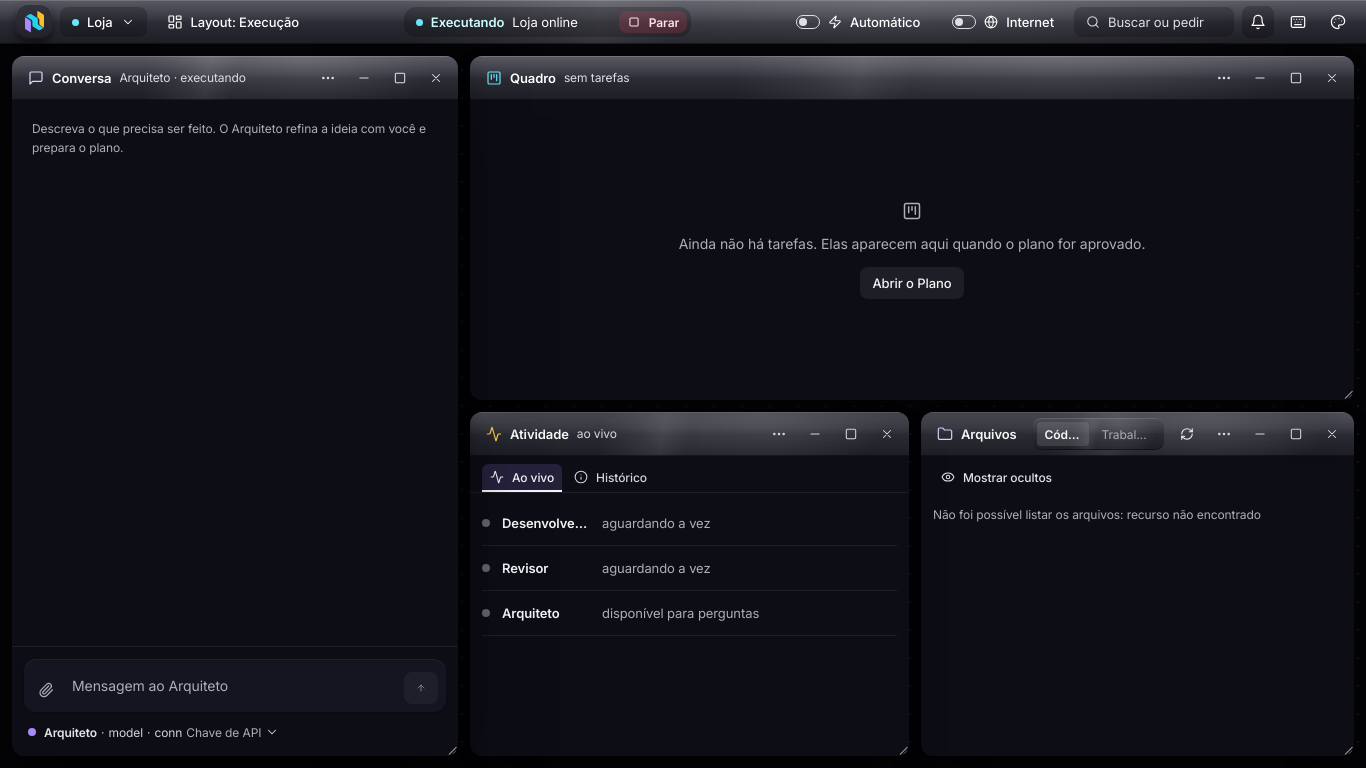
Test: Quadro: colunas, cartões e resumo › sem tarefas: estado vazio com 'Abrir o Plano'
Check: the element "Quadro" shows "Ainda não há tarefas.", box left=679, top=235, right=1145, bottom=252
Click the button "Abrir o Plano" at (912, 283), box left=860, top=267, right=964, bottom=299
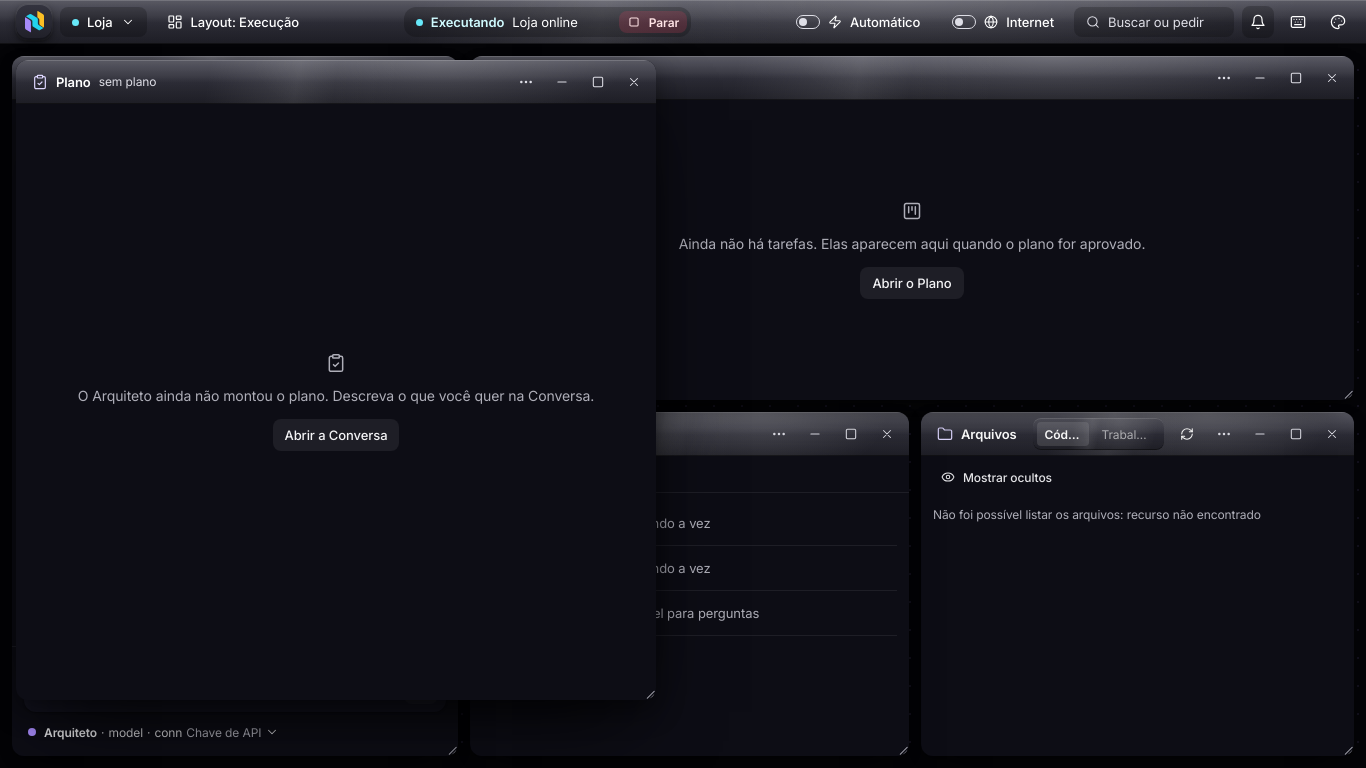
Check: the element "Plano" is shown, box left=16, top=60, right=656, bottom=700
